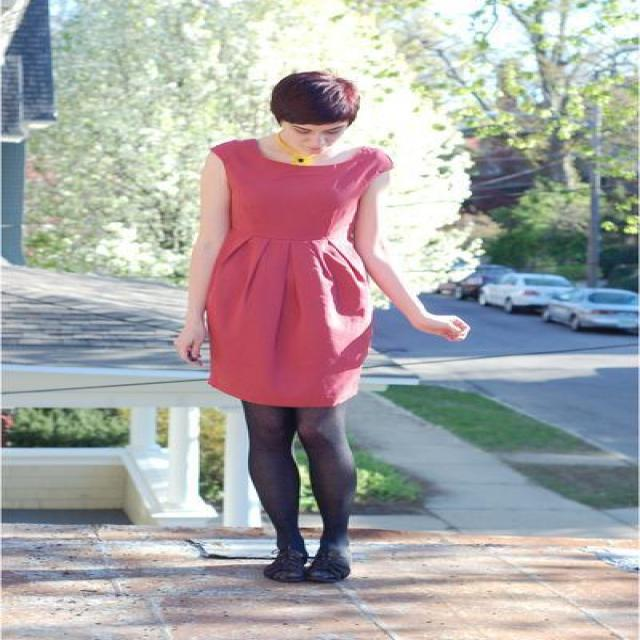dress: (190, 139, 392, 406)
shoe: (264, 550, 349, 584)
